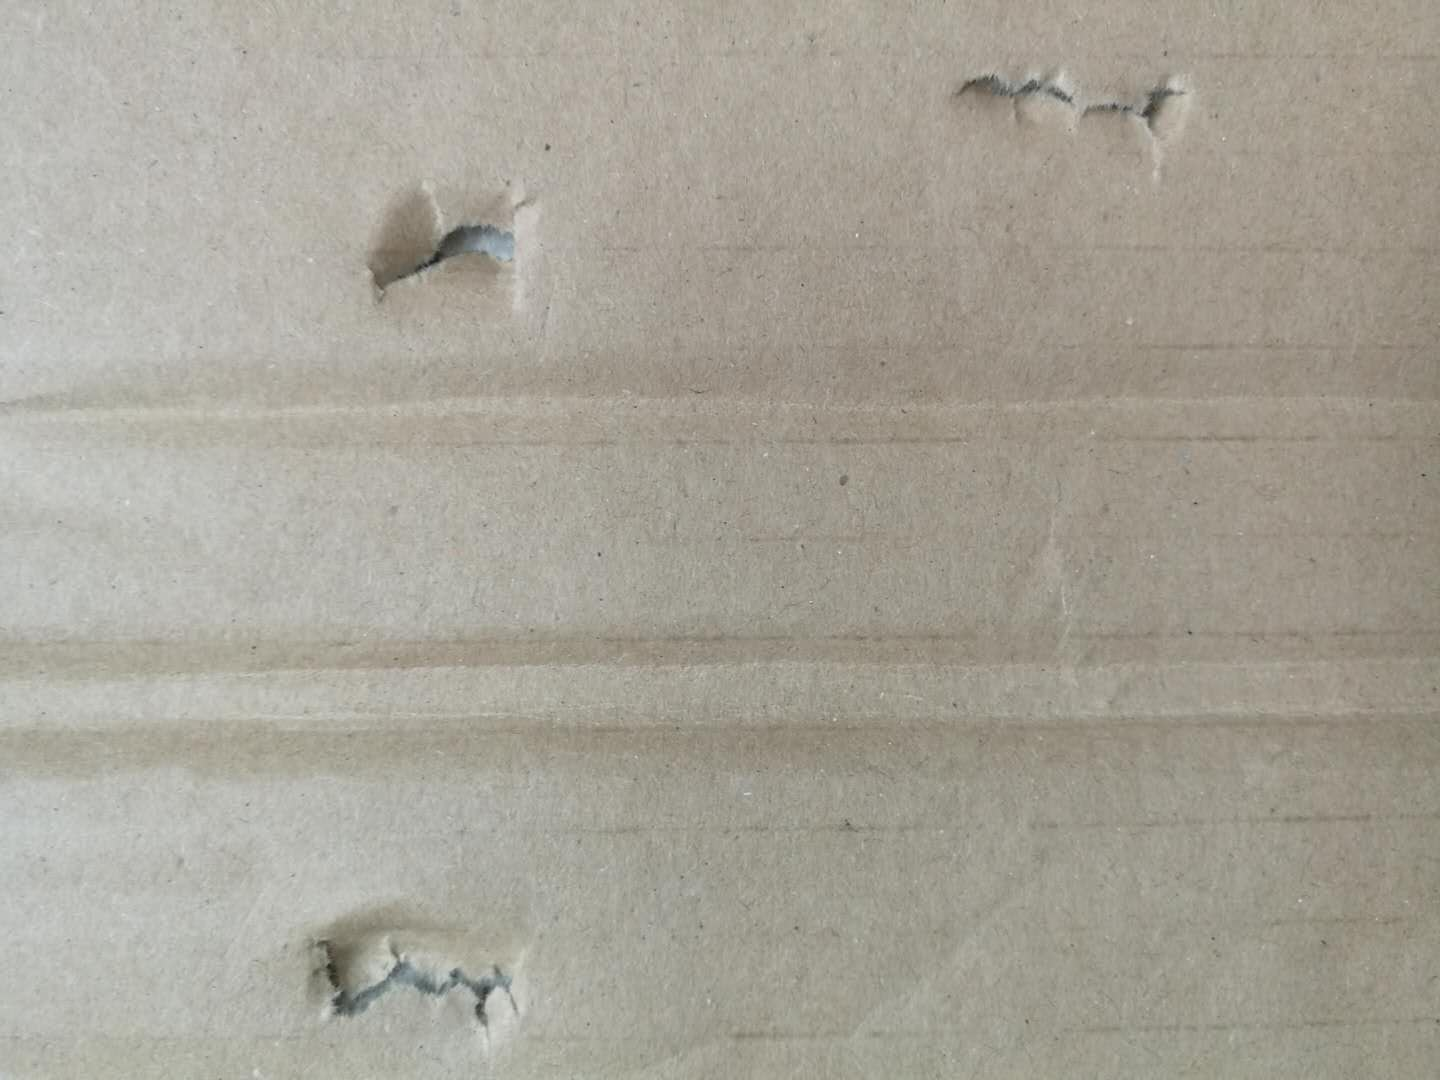defect: (3, 596, 1440, 822), (2, 328, 1440, 508), (927, 34, 1252, 219), (262, 881, 581, 1066), (340, 147, 565, 334)
